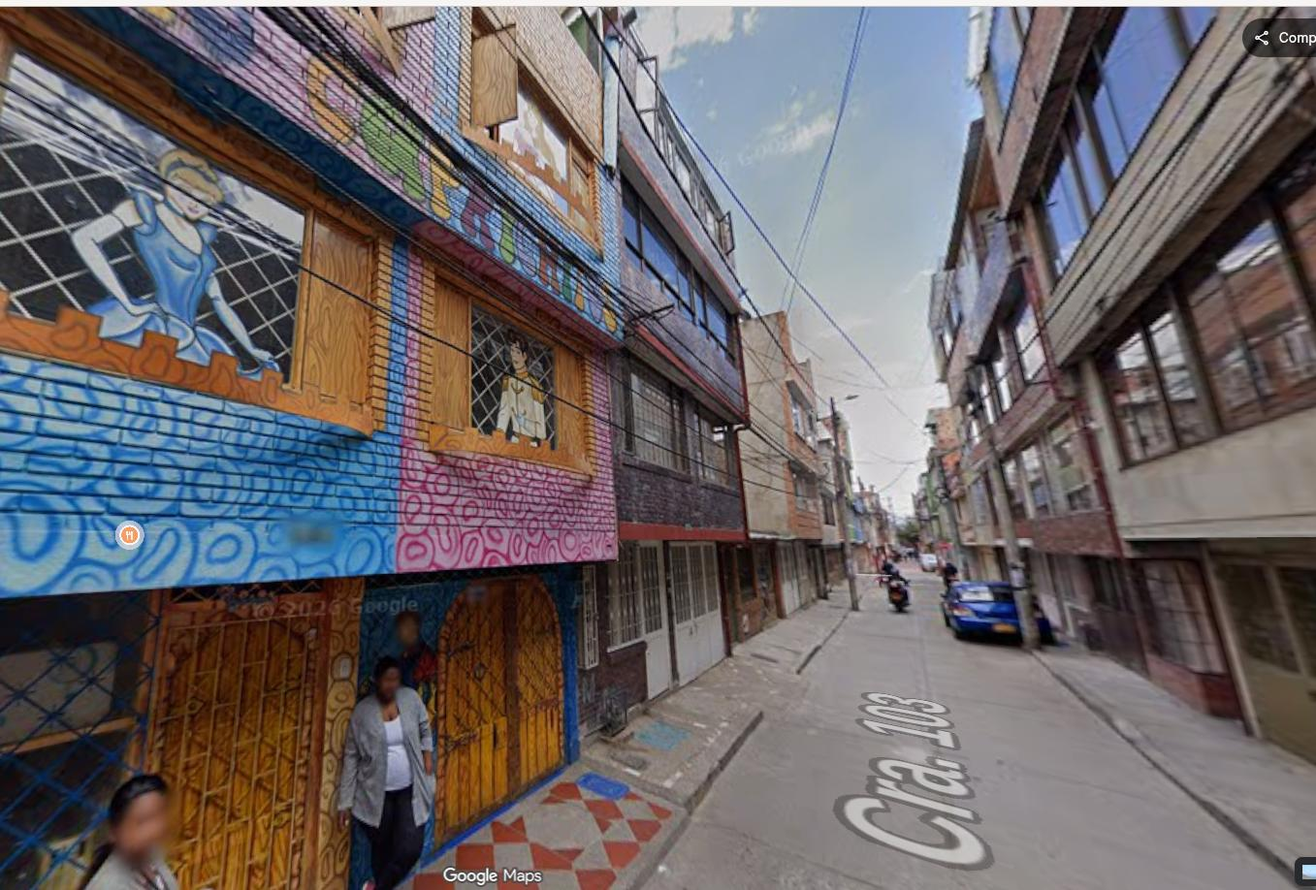casa: (0, 7, 648, 889), (994, 0, 1315, 761), (559, 0, 766, 727), (954, 136, 1144, 672)
poste: (831, 398, 859, 611)
